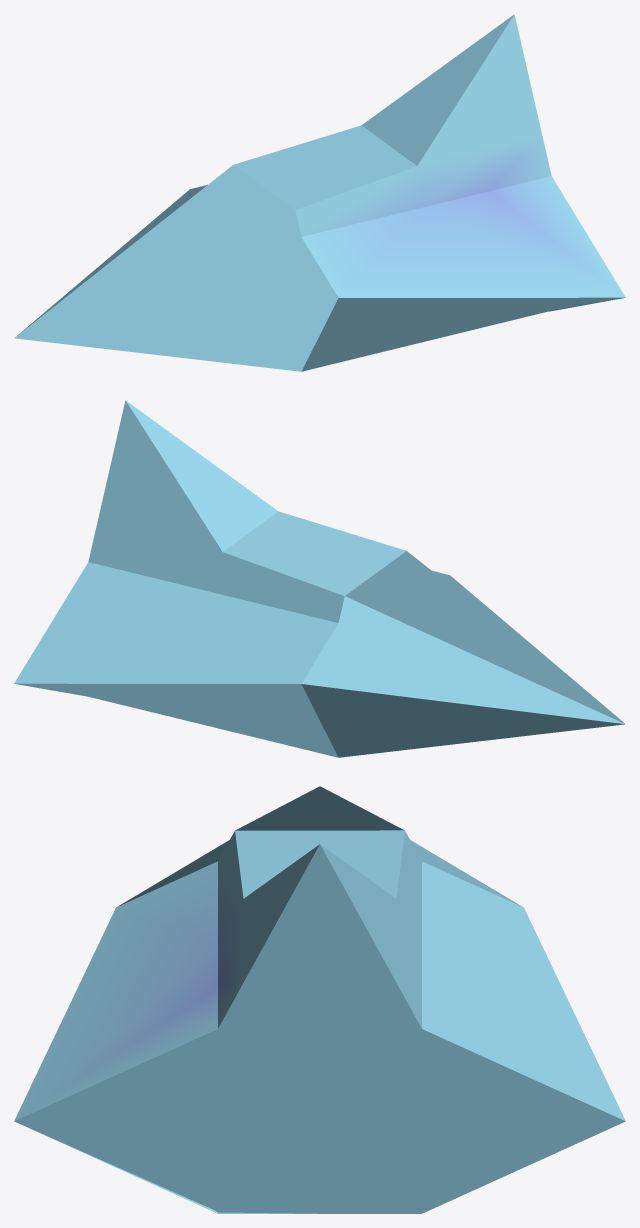
Rendered from spaceship2.glb.
3 renders of one model, top to bottom at view 1: azimuth 30°, elevation 25°; view 2: azimuth 150°, elevation 25°; view 3: azimuth 270°, elevation 25°, orthographic. The views are drawn at different scales.
Visible parts, largest first — view 1: Cube; view 2: Cube; view 3: Cube.
Boxes of the visible parts, x1,y1,x2,y2 form: Cube: (14, 14, 625, 371); Cube: (14, 400, 625, 757); Cube: (14, 786, 625, 1213).
Bounding box in the file's own units: 7.78 × 4.01 × 6.
